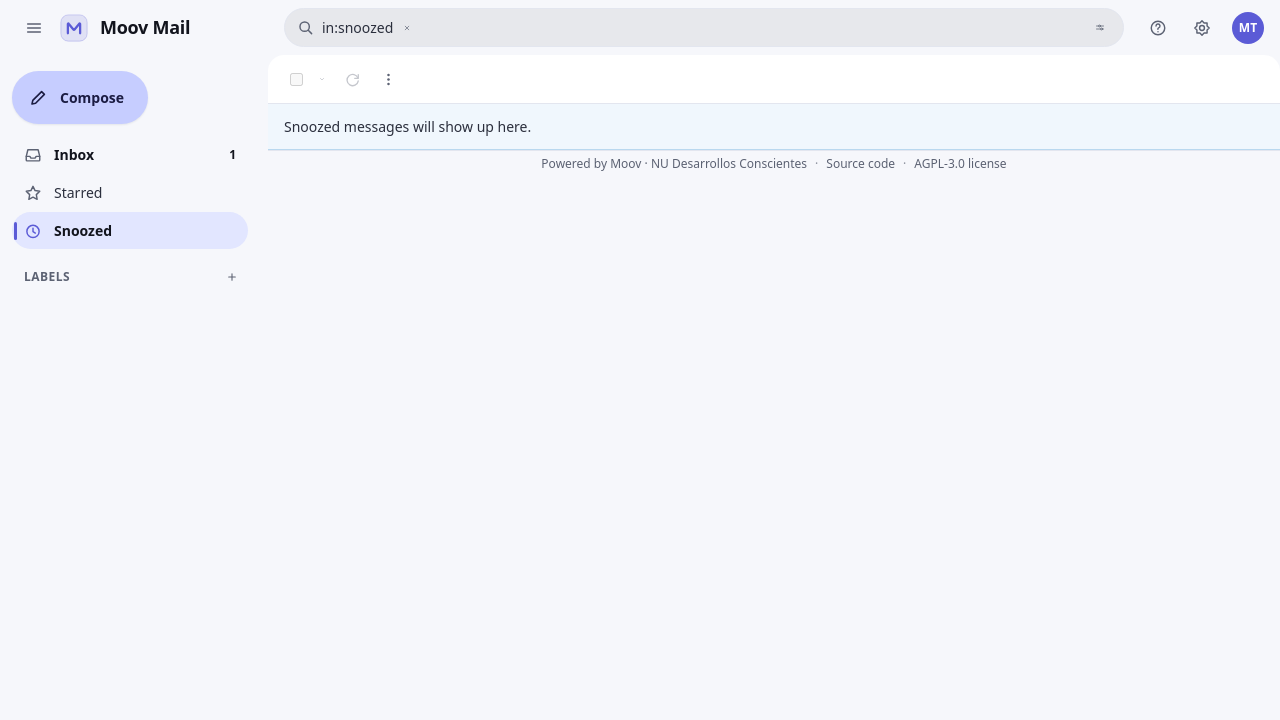
A-11 — Pospuestos vacío keeps the toolbar › puts the view's query in the search box, with a way out
The image size is (1280, 720).
Expected: the text "in:snoozed" is shown, [322,17,393,38]
Click the button named "Exit this view": {"x": 407, "y": 28} [397,18,417,38]
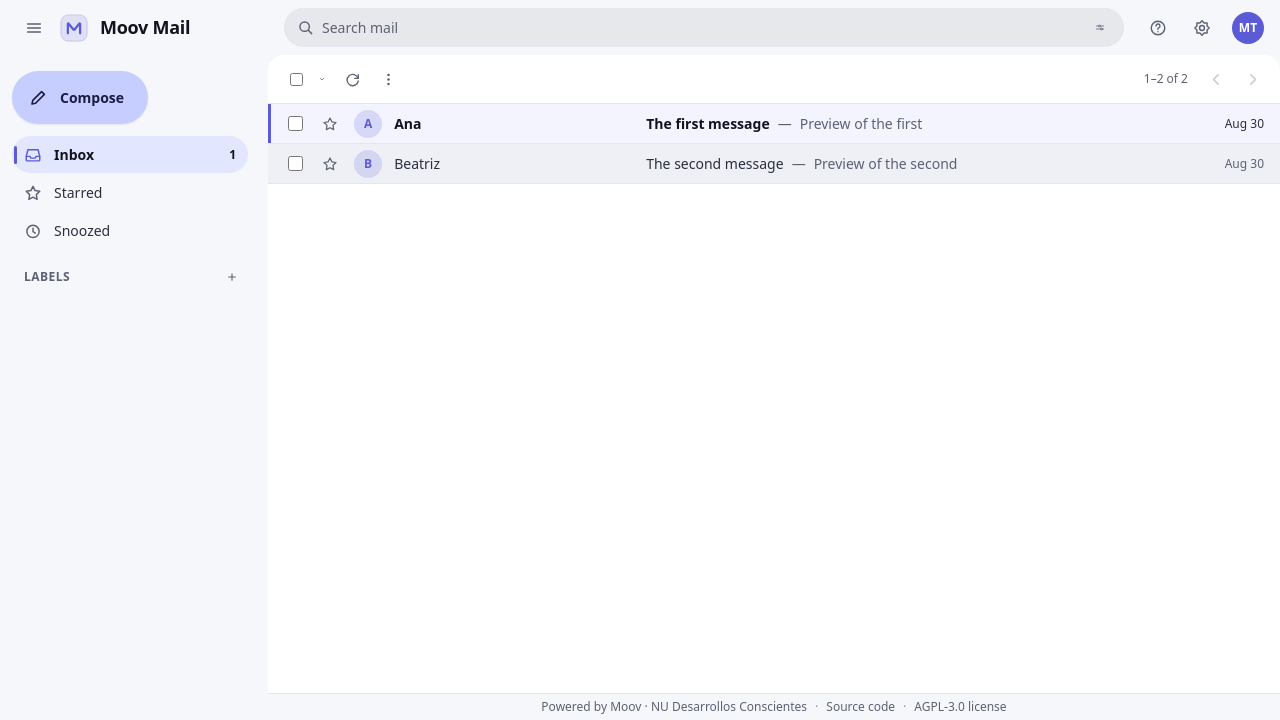
Expected: the text "in:snoozed" is gone
